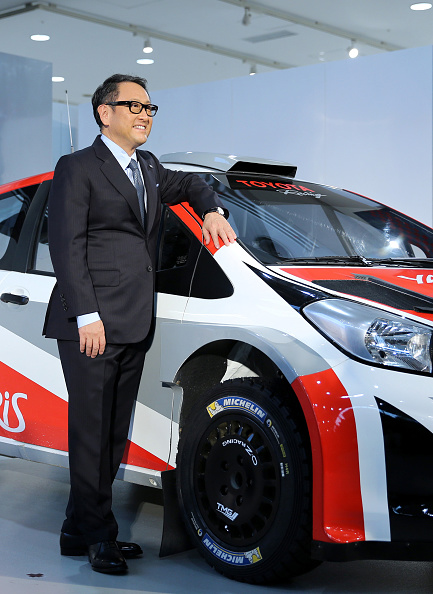em pe: (37, 60, 235, 577)
